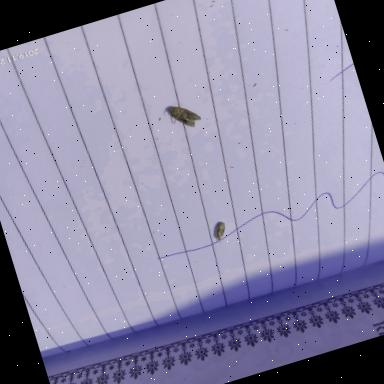pbw: (163, 96, 208, 136), (208, 220, 232, 244)
